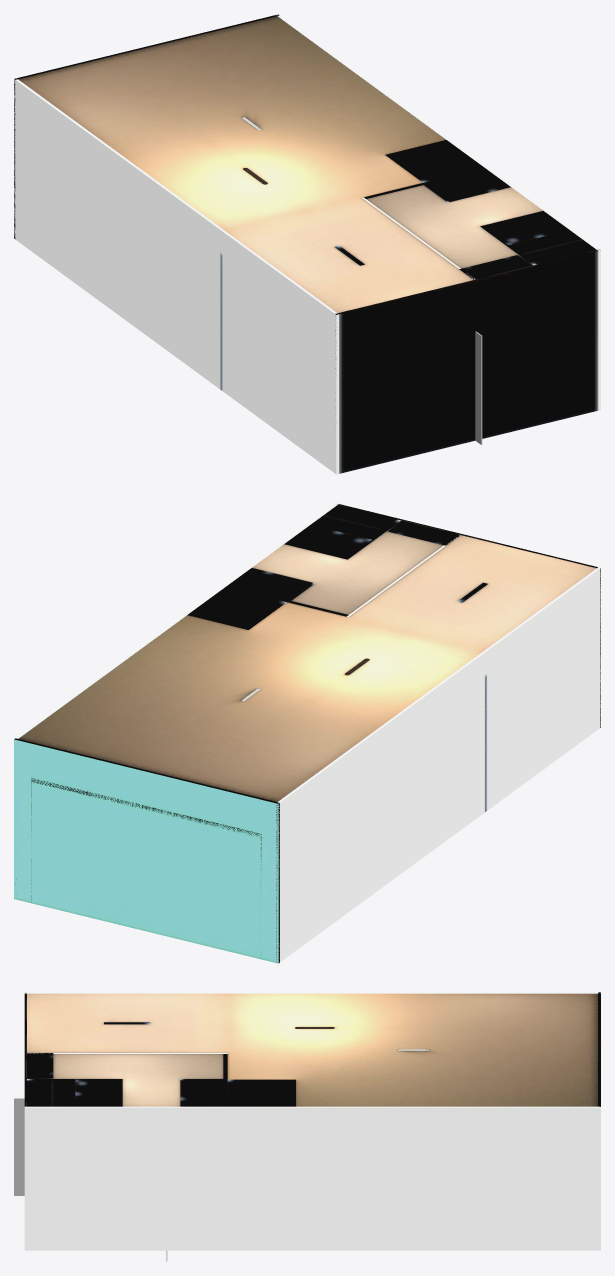
Rendered from huis-full.glb.
The picture shows the model from 3 angles, top to bottom: view 1: azimuth 30°, elevation 25°; view 2: azimuth 150°, elevation 25°; view 3: azimuth 270°, elevation 25°; orthographic projection. The views are drawn at different scales.
Visible parts, largest first — view 1: BAKE_schil, BG schoonmaakkastdeur v2; view 2: BAKE_schil; view 3: BAKE_schil, BG schoonmaakkastdeur v2.
Part boxes in pixels (x1,y1,x2,y2): BAKE_schil: (14,14,600,474); BG schoonmaakkastdeur v2: (475,331,482,444); BAKE_schil: (14,503,600,963); BAKE_schil: (24,992,600,1250); BG schoonmaakkastdeur v2: (14,1098,24,1195).
Bounding box in the file's own units: 5.2 × 3.42 × 11.18.
53 materials, 7 textured.
